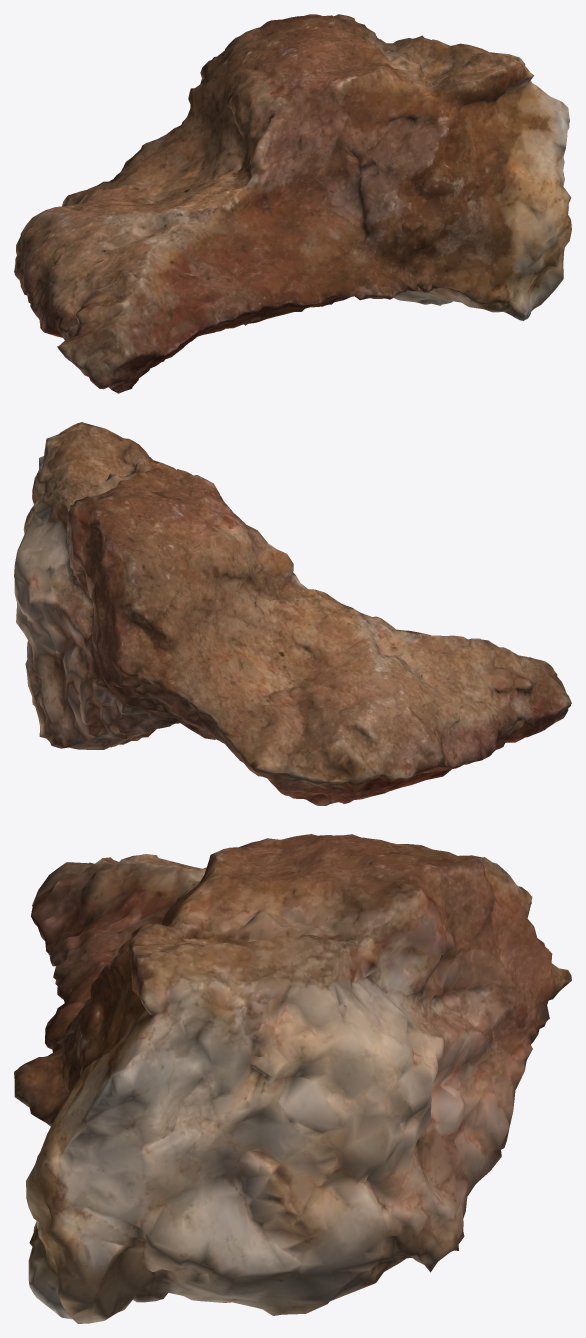
Rendered from ph_stone_01.glb.
The picture shows the model from 3 angles, top to bottom: view 1: azimuth 30°, elevation 25°; view 2: azimuth 150°, elevation 25°; view 3: azimuth 270°, elevation 25°; orthographic projection. The views are drawn at different scales.
Visible parts, largest first — view 1: stone_01; view 2: stone_01; view 3: stone_01.
Boxes of the visible parts, x1,y1,x2,y2 form: stone_01: (14,14,571,393); stone_01: (14,422,571,805); stone_01: (14,834,571,1323).
Size of the model in its own units: 0.1469 by 0.0718 by 0.089.
1 material, 1 textured.
